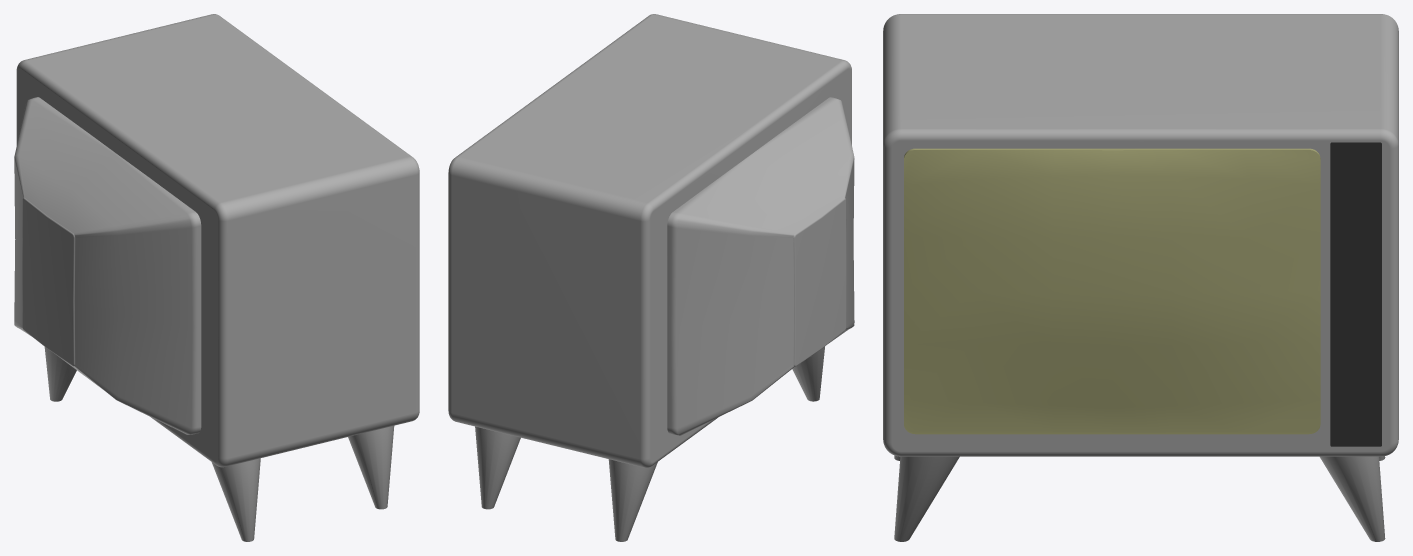
Rendered from TV_wip_0814.fbx.
3 renders of one model, left to right at view 1: azimuth 30°, elevation 25°; view 2: azimuth 150°, elevation 25°; view 3: azimuth 270°, elevation 25°, orthographic. The views are drawn at different scales.
Parts seen in each view (by area): view 1: TV_Body, TV_Body2, Legs_Base2, Legs_Base1, Legs_Base3; view 2: TV_Body, TV_Body2, Legs_Base3, Legs_Base4, Legs_Base2; view 3: Screen_Base1, TV_Body, pCube2, Legs_Base1, Legs_Base4.
Part boxes in pixels (box(x1,y1,x2,y2)): TV_Body: box(16, 14, 419, 467); TV_Body2: box(14, 97, 201, 434); Legs_Base2: box(211, 458, 260, 541); Legs_Base1: box(348, 426, 394, 509); Legs_Base3: box(44, 347, 76, 401); TV_Body: box(448, 14, 851, 467); TV_Body2: box(667, 97, 854, 435); Legs_Base3: box(608, 459, 657, 541); Legs_Base4: box(475, 426, 520, 509); Legs_Base2: box(792, 346, 824, 401); Screen_Base1: box(904, 148, 1320, 434); TV_Body: box(883, 14, 1398, 456); pCube2: box(1330, 142, 1381, 446); Legs_Base1: box(894, 456, 959, 541); Legs_Base4: box(1320, 456, 1385, 541).
Size of the model in its own units: 7.89 by 9.13 by 10.
